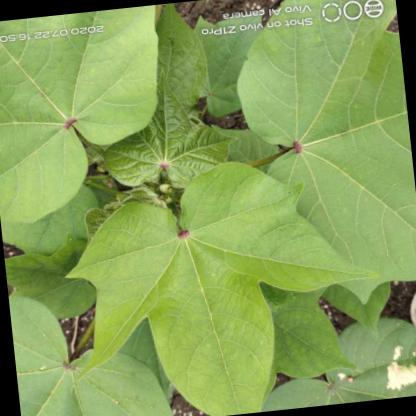cotton: (55, 153, 346, 416)
